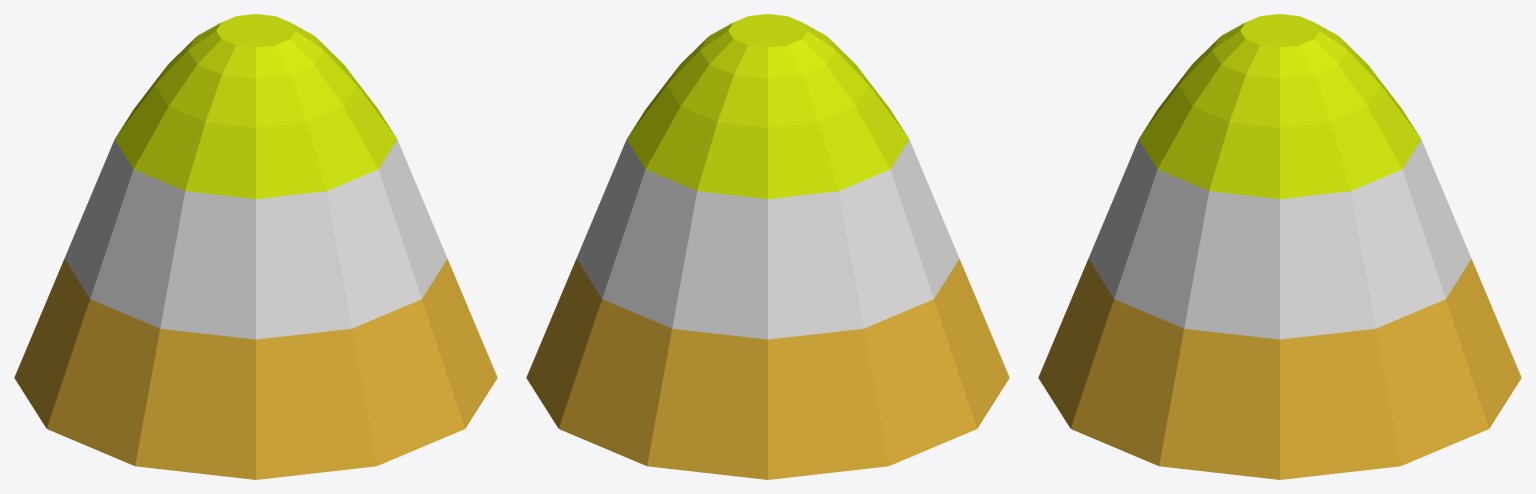
File: HE Shot .fbx
3 renders of one model, left to right at view 1: azimuth 30°, elevation 25°; view 2: azimuth 150°, elevation 25°; view 3: azimuth 270°, elevation 25°, orthographic.
Visible parts, largest first — view 1: Cylinder; view 2: Cylinder; view 3: Cylinder.
Boxes of the visible parts, left/top/right/bottom form: Cylinder: left=14, top=14, right=497, bottom=479; Cylinder: left=526, top=14, right=1009, bottom=479; Cylinder: left=1038, top=14, right=1521, bottom=479.
Bounding box in the file's own units: 145 × 115 × 145.
